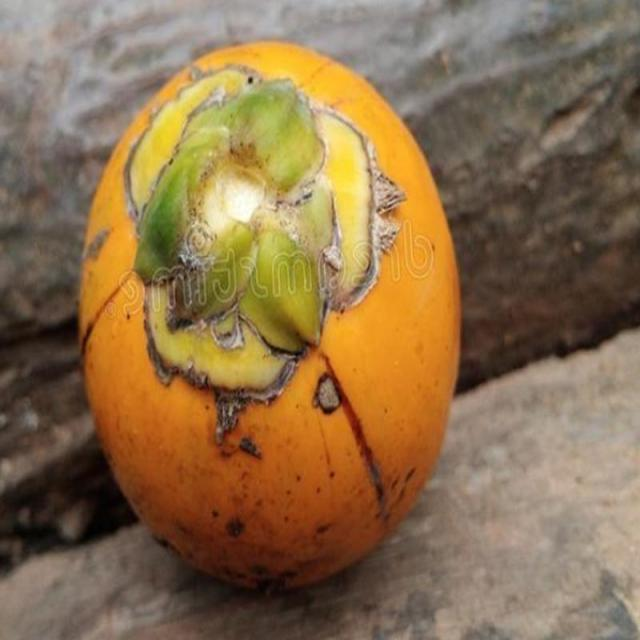good: (80, 41, 462, 593)
